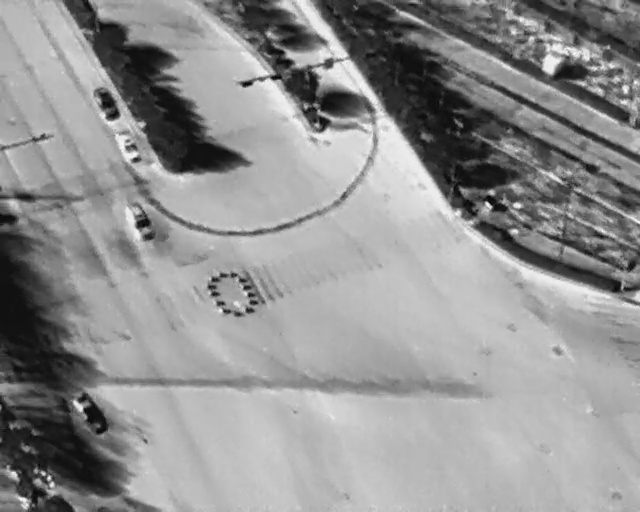Car: (66, 387, 114, 437), (123, 199, 160, 244), (91, 84, 122, 123), (113, 128, 142, 166)
